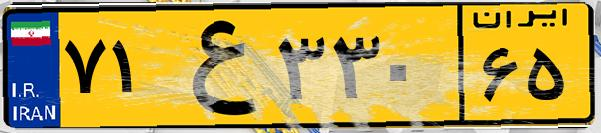0: (385, 28, 445, 110)
1: (110, 28, 158, 98)
3: (270, 28, 330, 110), (330, 28, 385, 110)
5: (525, 38, 570, 115)
6: (475, 38, 525, 113)
7: (57, 26, 110, 100)
ع: (158, 12, 270, 120)
